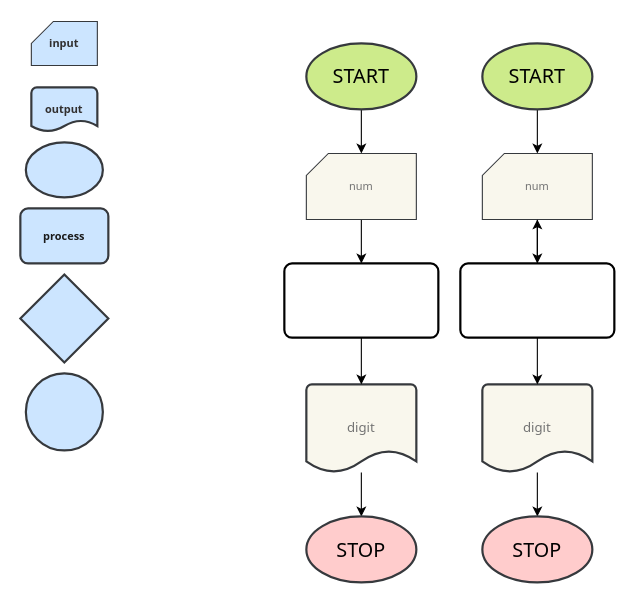
Some shapes in this 634 by 603 pixel diagram are drawn without their labels. Each missing label, with the centre of its shape:
"condition" belongs at point 64,318.
"digit = ((num/10) - int(num/10))*10" belongs at point 361,300.
"digit = ((num/100) - (int) (num/10))*10" belongs at point 537,300.
"loop condition" belongs at point 63,411.
"start / stop junction" belongs at point 63,169.
